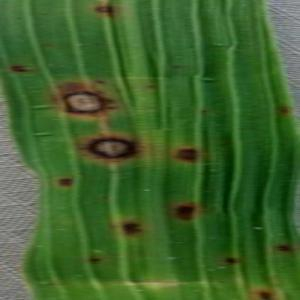0 BrownSpot: (69, 124, 149, 175), (48, 76, 124, 122), (166, 197, 205, 226), (170, 139, 203, 170), (117, 218, 146, 239), (90, 2, 121, 20), (250, 285, 283, 300), (55, 171, 77, 192), (8, 61, 36, 76), (221, 253, 243, 267), (272, 240, 294, 254), (275, 101, 293, 117), (171, 60, 190, 73), (83, 254, 102, 266), (92, 76, 110, 87), (143, 80, 159, 92), (201, 107, 211, 116)
